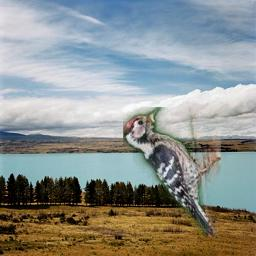Woodpecker: (123, 107, 221, 237)
